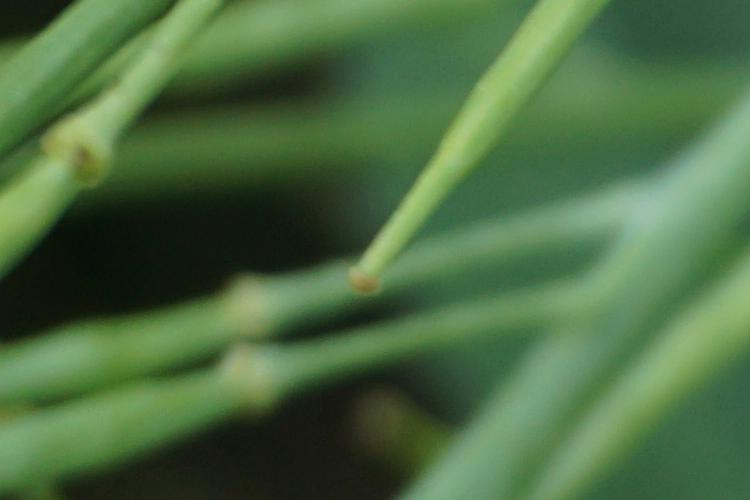pod: (327, 5, 611, 291)
